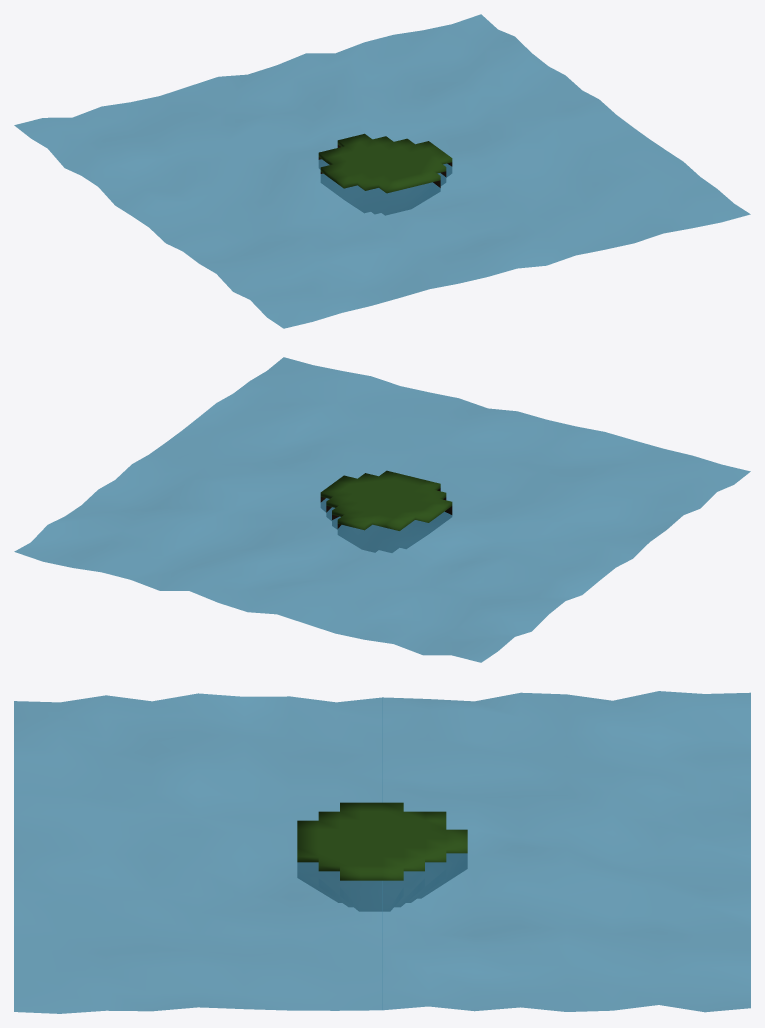
The model's file is island-untitled-test.glb.
The picture shows the model from 3 angles, top to bottom: view 1: azimuth 30°, elevation 25°; view 2: azimuth 150°, elevation 25°; view 3: azimuth 270°, elevation 25°; orthographic projection. The views are drawn at different scales.
Parts seen in each view (by area): view 1: Plane.001, Plane; view 2: Plane.001, Plane; view 3: Plane.001, Plane.
Boxes of the visible parts, x1=… form: Plane.001: x1=14, y1=14, x2=750, y2=328; Plane: x1=318, y1=133, x2=452, y2=214; Plane.001: x1=14, y1=357, x2=750, y2=662; Plane: x1=320, y1=470, x2=452, y2=552; Plane.001: x1=14, y1=691, x2=750, y2=1013; Plane: x1=297, y1=802, x2=467, y2=910.
Size of the model in its own units: 8.64 by 0.719 by 8.64.
